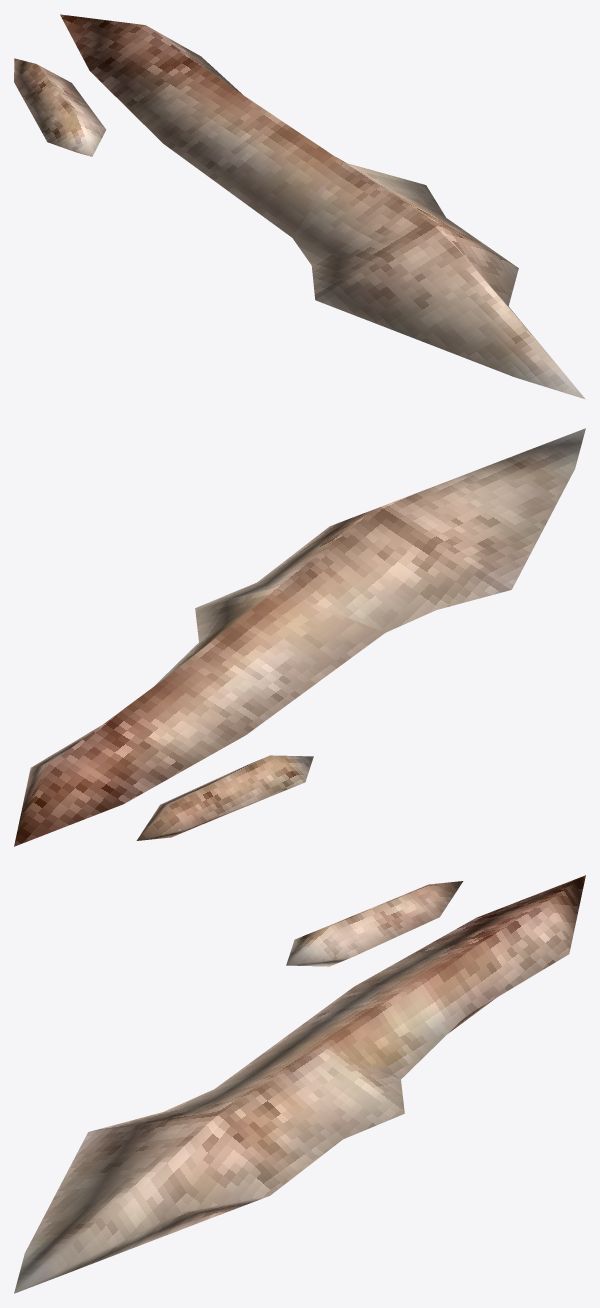
Rendered from LowRefineStone.glb.
3 renders of one model, top to bottom at view 1: azimuth 30°, elevation 25°; view 2: azimuth 150°, elevation 25°; view 3: azimuth 330°, elevation 25°, orthographic. The views are drawn at different scales.
Parts seen in each view (by area): view 1: model_LowRefineStone; view 2: model_LowRefineStone; view 3: model_LowRefineStone.
Boxes of the visible parts, x1=… form: model_LowRefineStone: x1=14, y1=14, x2=585, y2=399; model_LowRefineStone: x1=14, y1=428, x2=585, y2=846; model_LowRefineStone: x1=14, y1=875, x2=585, y2=1293.
Bounding box in the file's own units: 0.1011 × 0.0372 × 0.3837.
1 material, 1 textured.
